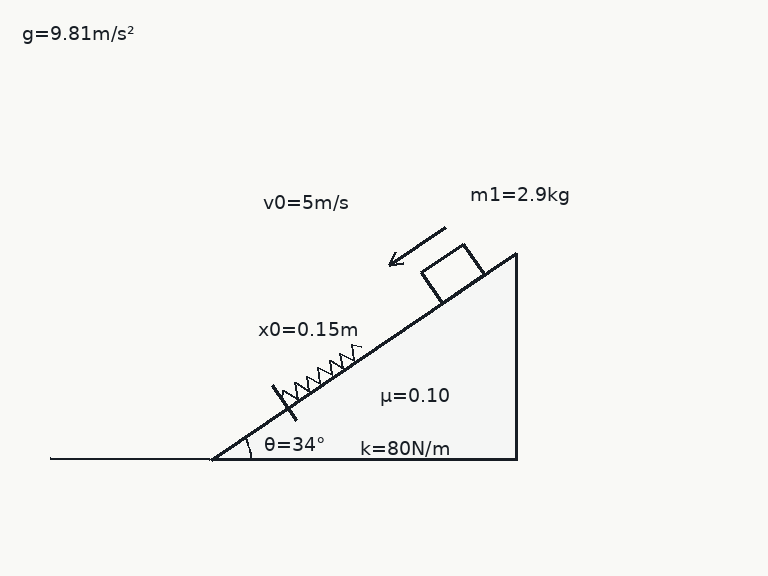block: (419, 242, 486, 305)
ramp: (209, 251, 518, 461)
spring: (280, 343, 364, 402)
